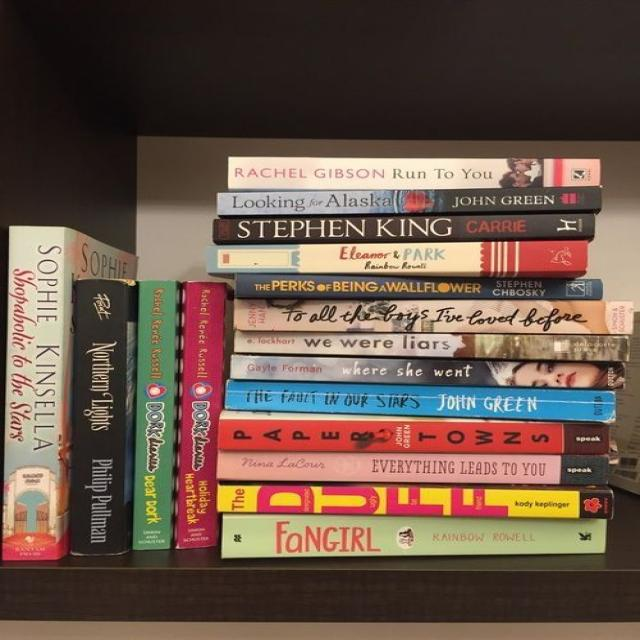book: (4, 227, 64, 562), (69, 279, 136, 555), (218, 412, 609, 455), (221, 516, 605, 558), (224, 380, 614, 421), (174, 282, 230, 547), (229, 355, 623, 390), (234, 299, 630, 333), (218, 486, 612, 519), (209, 243, 588, 277), (132, 281, 178, 550), (229, 156, 599, 189), (212, 214, 594, 245), (234, 331, 627, 361), (218, 454, 607, 484), (218, 187, 600, 216), (234, 274, 602, 299)
